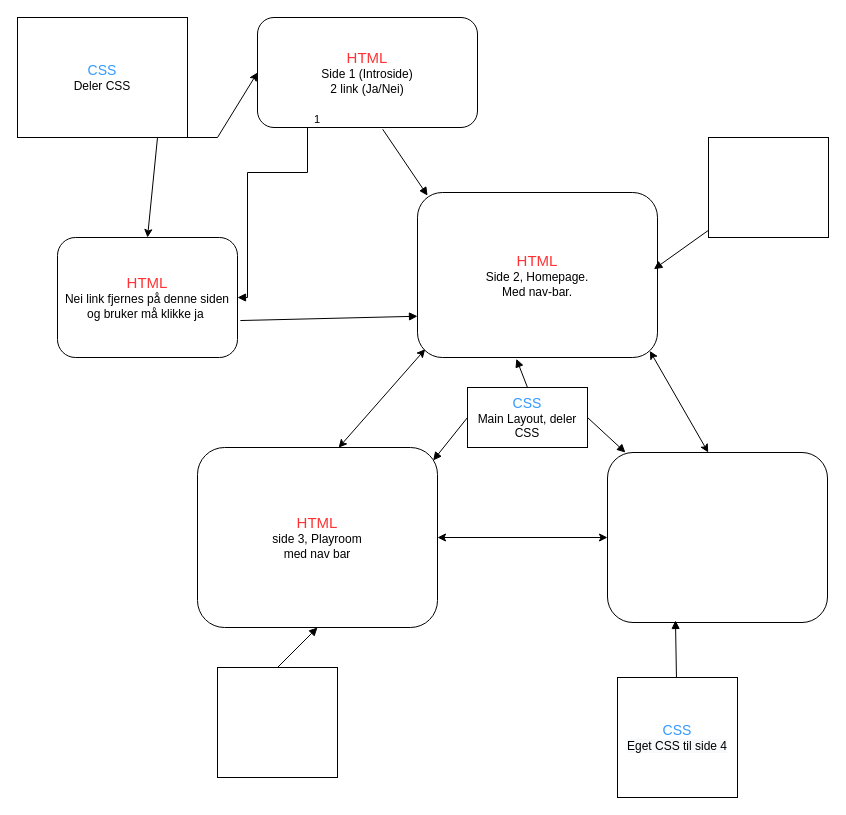
The diagram is 846 pixels wide and 815 high, and some of its shapes have lost their labels. Here are the shapes that lost their labels. From the top down, the centre of each, then its label:
At [768,187]: "CSS Eget CSS til side 2".
At [717,537]: "HTML side 4, siste side, med nav-bar".
At [277,722]: "CSS Eget CSS til side 3".
